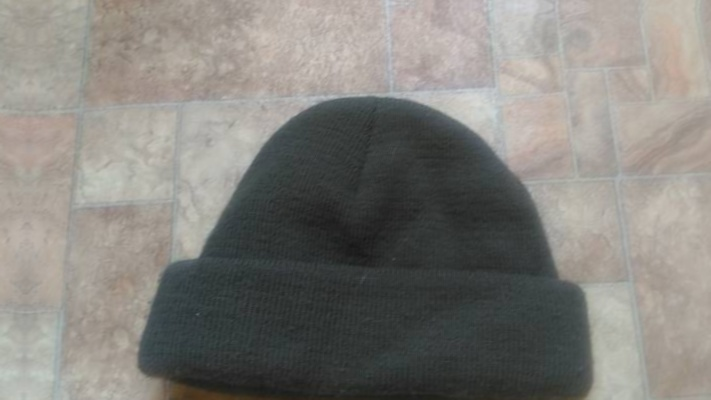Hat: (122, 88, 599, 400)
